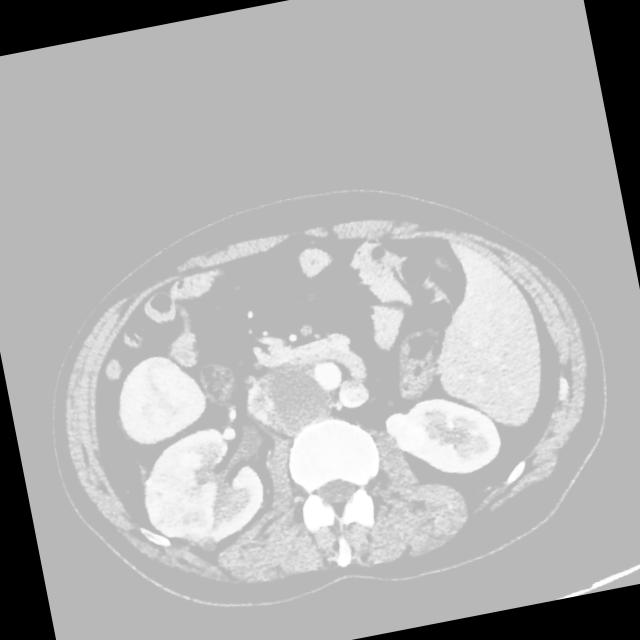TUMOR: (67, 173, 582, 591)
